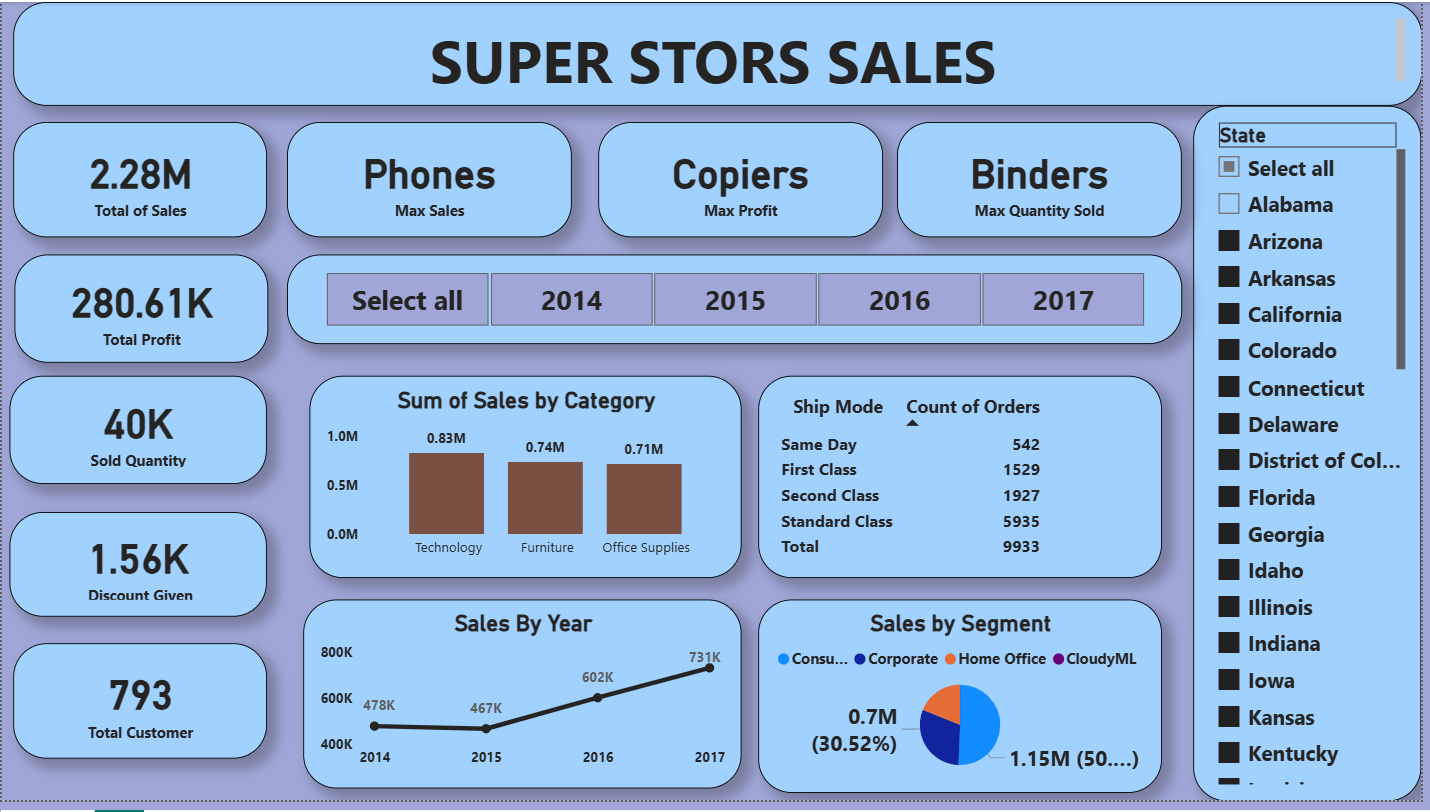

This screenshot's page, from the dashboard's own definition file:
{"tool":"powerbi","page":{"name":"Page 1","canvas":[1280,720],"ordinal":0},"visuals":[{"type":"textbox","box":[9.6,0,1270.7,93.3],"z":0},{"type":"card","fields":{"Values":["Sum(Orders.Sales)"]},"box":[9.6,108.4,229.2,104.3],"z":1000},{"type":"card","fields":{"Values":["Sum(Orders.Profit)"]},"box":[11,227.8,229.2,97.4],"z":2000},{"type":"card","fields":{"Values":["Sum(Orders.Quantity)"]},"box":[6.9,337.6,231.9,97.4],"z":3000},{"type":"card","fields":{"Values":["Sum(Orders.Discount)"]},"box":[6.9,459.7,231.9,94.7],"z":4000},{"type":"card","fields":{"Values":["Count(Orders.Customer Name)"]},"box":[9.6,577.7,229.2,104.3],"z":5000},{"type":"slicer","fields":{"Values":["Orders.State"]},"box":[1074.4,93.3,205.8,627.1],"z":6000},{"type":"lineChart","title":" Sales By Year","fields":{"Category":["Orders.Order Date.Variation.Date Hierarchy.Year"],"Y":["Sum(Orders.Sales)"]},"box":[271.7,539.3,395.2,170.2],"z":7000},{"type":"pieChart","title":"Sales by Segment","fields":{"Y":["Sum(Orders.Sales)"],"Category":["Orders.Segment"]},"box":[682,539.3,363.6,174.3],"z":8000},{"type":"columnChart","fields":{"Category":["Orders.Category"],"Y":["Sum(Orders.Sales)"]},"box":[277.2,337.6,389.7,182.5],"z":9000},{"type":"card","fields":{"Values":["Min(Orders.Sub-Category)"]},"box":[256.6,108.4,256.6,104.3],"z":10000},{"type":"card","fields":{"Values":["Min(Orders.Sub-Category)"]},"box":[537.9,108.4,256.6,104.3],"z":11000},{"type":"card","fields":{"Values":["Min(Orders.Sub-Category)"]},"box":[806.9,108.4,256.6,104.3],"z":12000},{"type":"tableEx","fields":{"Values":["Orders.Ship Mode","Orders.Order ID"]},"box":[682,337.6,363.6,182.5],"z":13000},{"type":"slicer","fields":{"Values":["Orders.Order Date.Variation.Date Hierarchy.Year"]},"box":[256.6,227.8,806.9,81],"z":14000}]}

Visuals, with their boxes in screenshot pixels (x1, y1, x2, y2), scaled from the page's 1280x720 canvas onto the 1430x812 screenshot:
textbox: BBox(11, 0, 1429, 105)
card - Sum(Orders.Sales): BBox(11, 122, 267, 240)
card - Sum(Orders.Profit): BBox(12, 257, 268, 367)
card - Sum(Orders.Quantity): BBox(8, 381, 267, 491)
card - Sum(Orders.Discount): BBox(8, 518, 267, 625)
card - Count(Orders.Customer Name): BBox(11, 652, 267, 769)
slicer - Orders.State: BBox(1200, 105, 1429, 811)
" Sales By Year" lineChart: BBox(304, 608, 745, 800)
"Sales by Segment" pieChart: BBox(762, 608, 1168, 805)
columnChart - Orders.Category x Sum(Orders.Sales): BBox(310, 381, 745, 587)
card - Min(Orders.Sub-Category): BBox(287, 122, 573, 240)
card - Min(Orders.Sub-Category): BBox(601, 122, 888, 240)
card - Min(Orders.Sub-Category): BBox(901, 122, 1188, 240)
tableEx - Orders.Ship Mode x Orders.Order ID: BBox(762, 381, 1168, 587)
slicer - Orders.Order Date.Variation.Date Hierarchy.Year: BBox(287, 257, 1188, 348)
